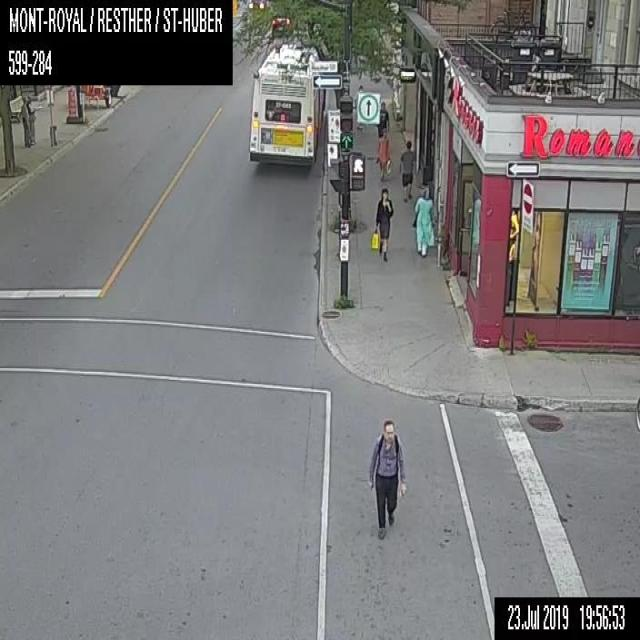bus: (248, 42, 326, 166)
construction: (65, 87, 78, 123)
pedestrian: (368, 420, 407, 539), (370, 187, 393, 260), (412, 185, 434, 256), (398, 141, 416, 201), (375, 128, 392, 182), (25, 95, 36, 144), (376, 99, 389, 137), (20, 92, 28, 147)
vehicle: (270, 16, 293, 35), (247, 0, 265, 9)
